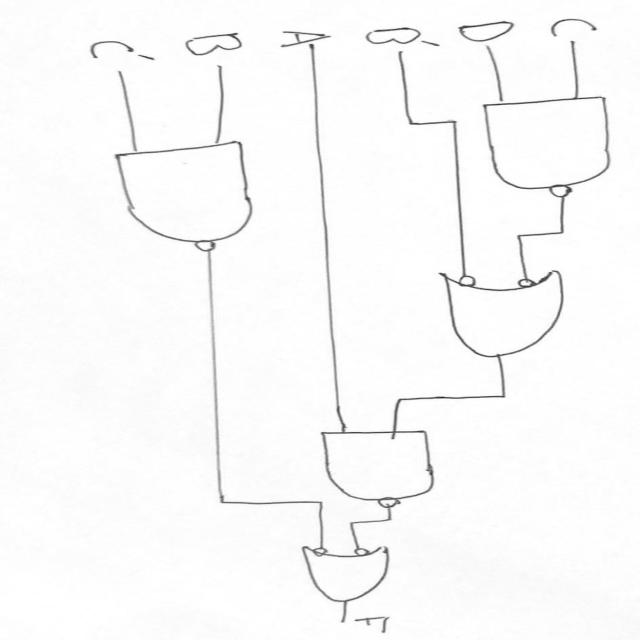NAND: (88, 142, 300, 262), (466, 94, 632, 194), (318, 424, 469, 510)
OR: (419, 260, 592, 367), (279, 547, 423, 609)
